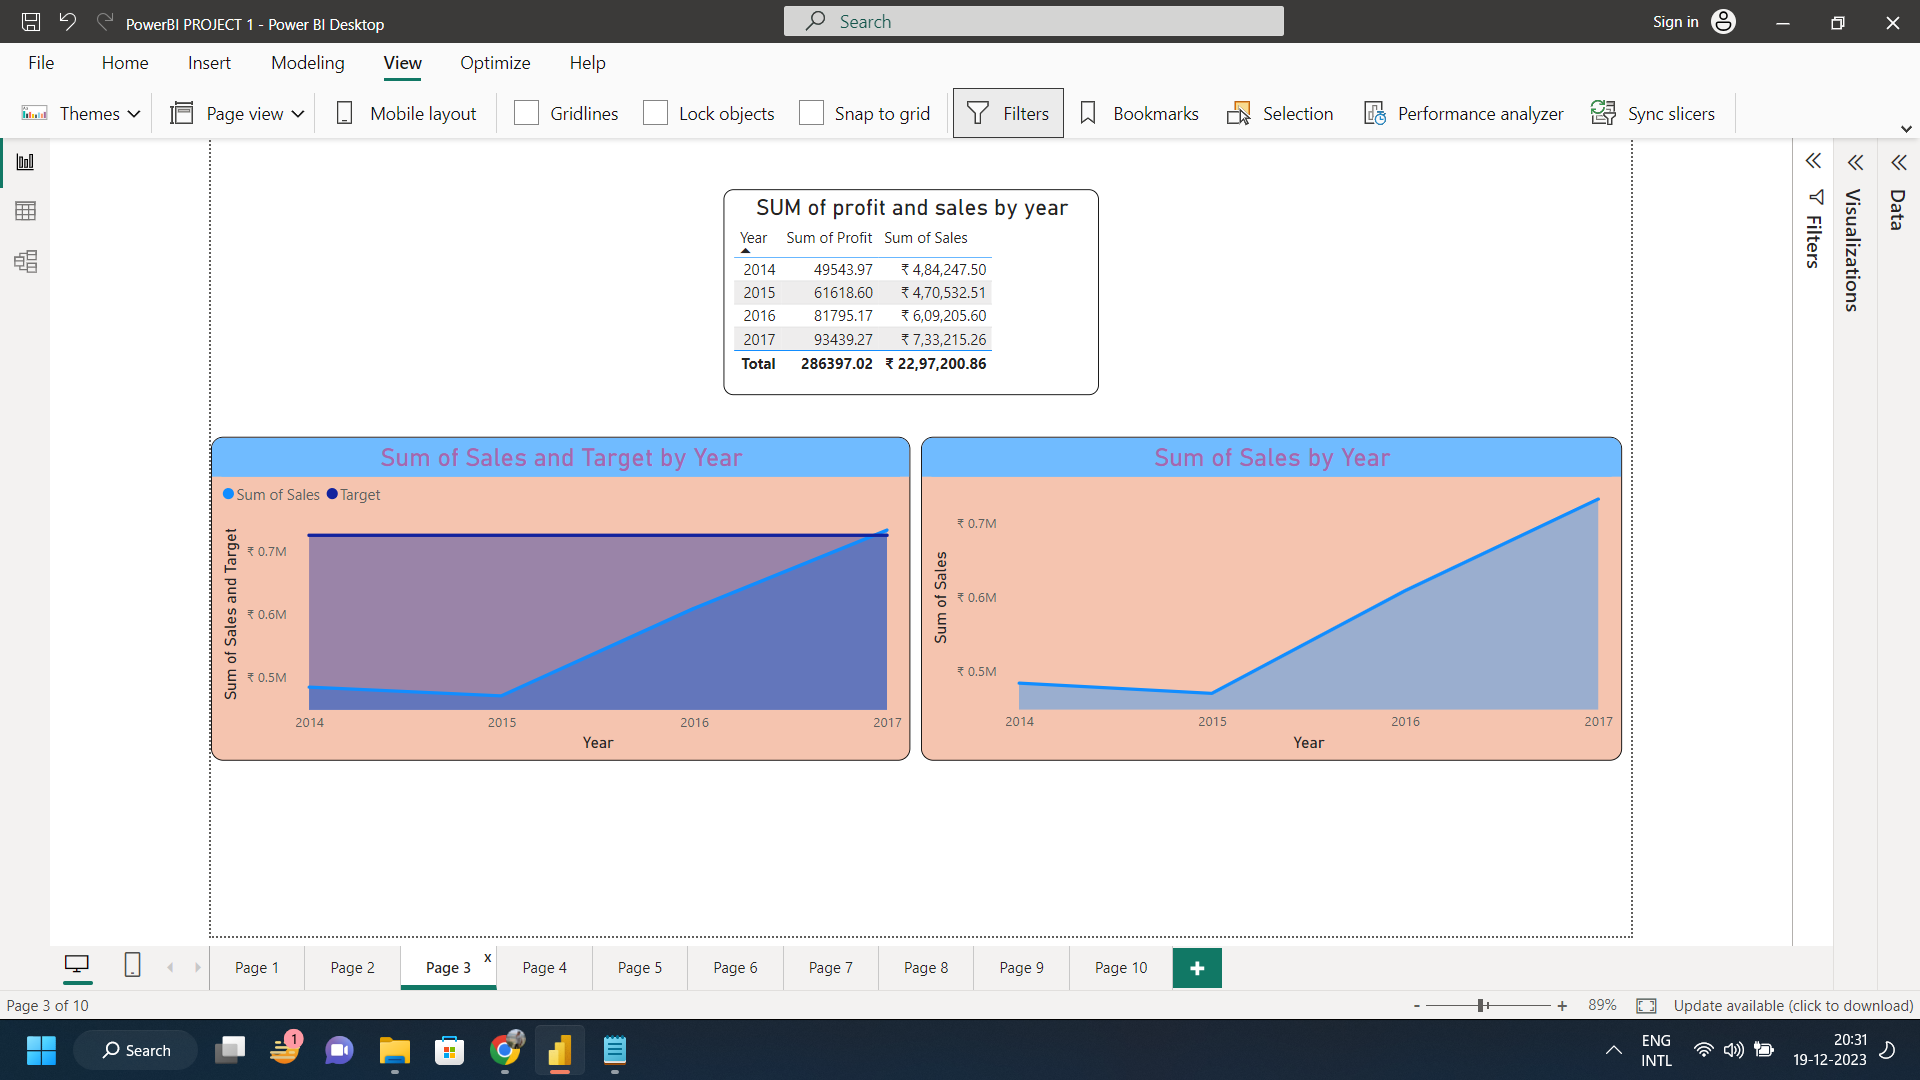

Layout of this report page (visuals, bound fields, positions):
{"tool":"powerbi","page":{"name":"Page 3","canvas":[1280,720],"ordinal":2},"visuals":[{"type":"tableEx","title":"SUM of profit and sales by year","fields":{"Values":["Orders.Order Date.Variation.Date Hierarchy.Year","Sum(Orders.Profit)","Sum(Orders.Sales)"]},"box":[462.1,46.5,338.6,185.8],"z":0},{"type":"areaChart","fields":{"Y":["Sum(Orders.Sales)","Orders.Target"],"Category":["Orders.Order Date.Variation.Date Hierarchy.Year"]},"box":[0,268.9,630.8,292.2],"z":1000},{"type":"areaChart","fields":{"Y":["Sum(Orders.Sales)"],"Category":["Orders.Order Date.Variation.Date Hierarchy.Year"]},"box":[640.5,268.9,632,292.2],"z":2000}]}

Visuals, with their boxes on the page's 1280x720 design canvas (x1, y1, x2, y2). These are canvas units, not pixel positions in the 1920x1080 screenshot, which may show the page scaled, cropped or inside an application window:
"SUM of profit and sales by year" tableEx: 462:46:801:232
areaChart - Sum(Orders.Sales) x Orders.Target: 0:269:631:561
areaChart - Sum(Orders.Sales) x Orders.Order Date.Variation.Date Hierarchy.Year: 640:269:1272:561
